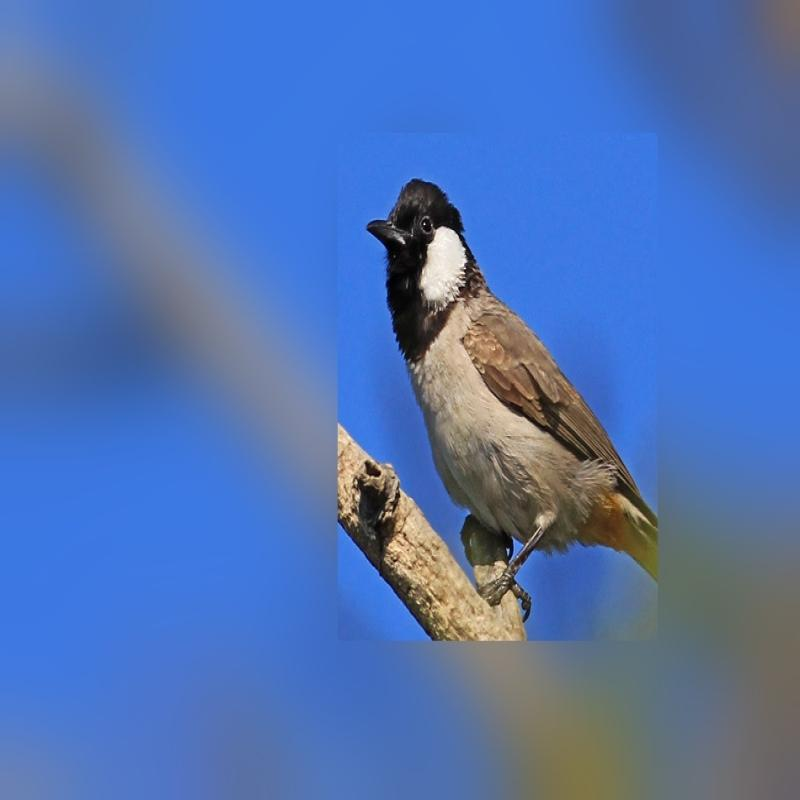white-eared bulbul: (360, 172, 660, 616)
